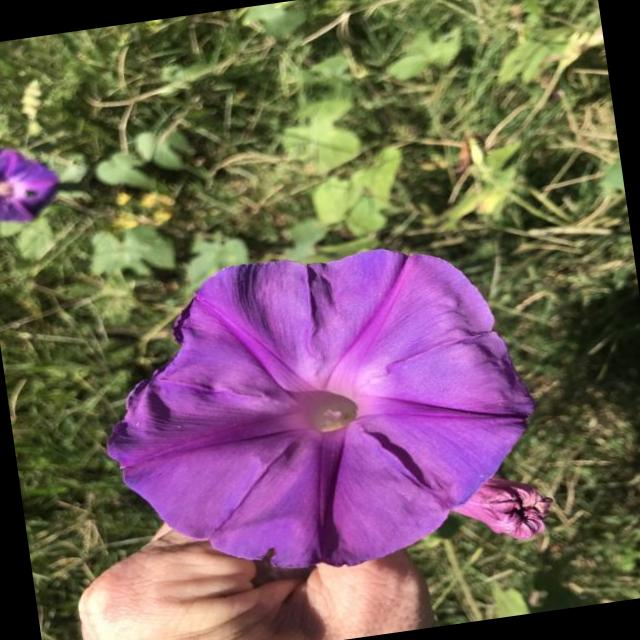ipomoea: (79, 222, 558, 600), (443, 466, 561, 554), (0, 140, 68, 231)
